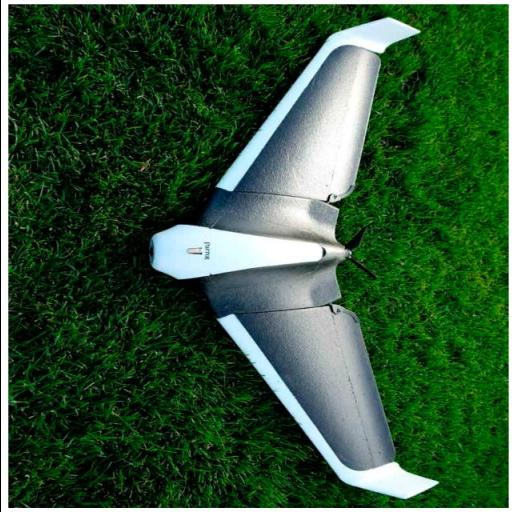uav: (144, 16, 446, 504)
